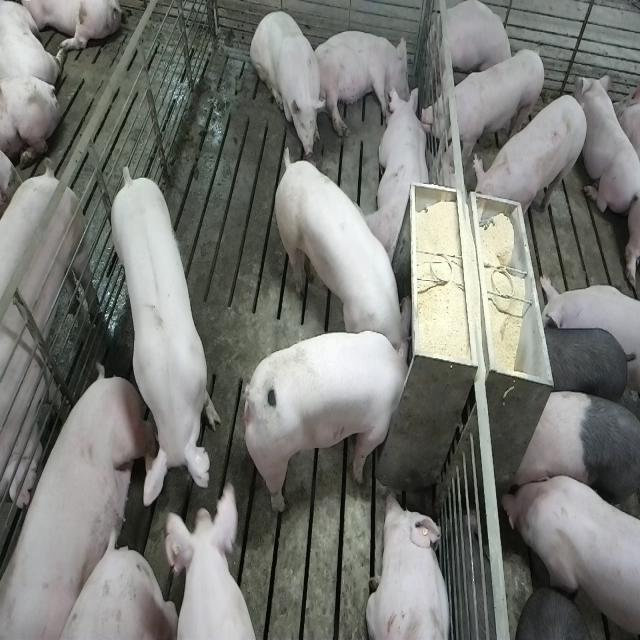Feeding: (248, 328, 420, 518), (272, 141, 409, 355)
Lateral_lying: (0, 366, 143, 640), (311, 29, 411, 137)
Sitting: (250, 7, 324, 158)
Standing: (108, 165, 221, 513), (0, 170, 99, 521), (502, 468, 638, 640), (510, 385, 638, 523), (472, 92, 589, 231), (166, 478, 257, 640), (423, 45, 547, 161), (530, 322, 636, 408)
Sternal_lying: (365, 489, 453, 640), (366, 85, 434, 265), (579, 72, 638, 221), (434, 1, 514, 87)
